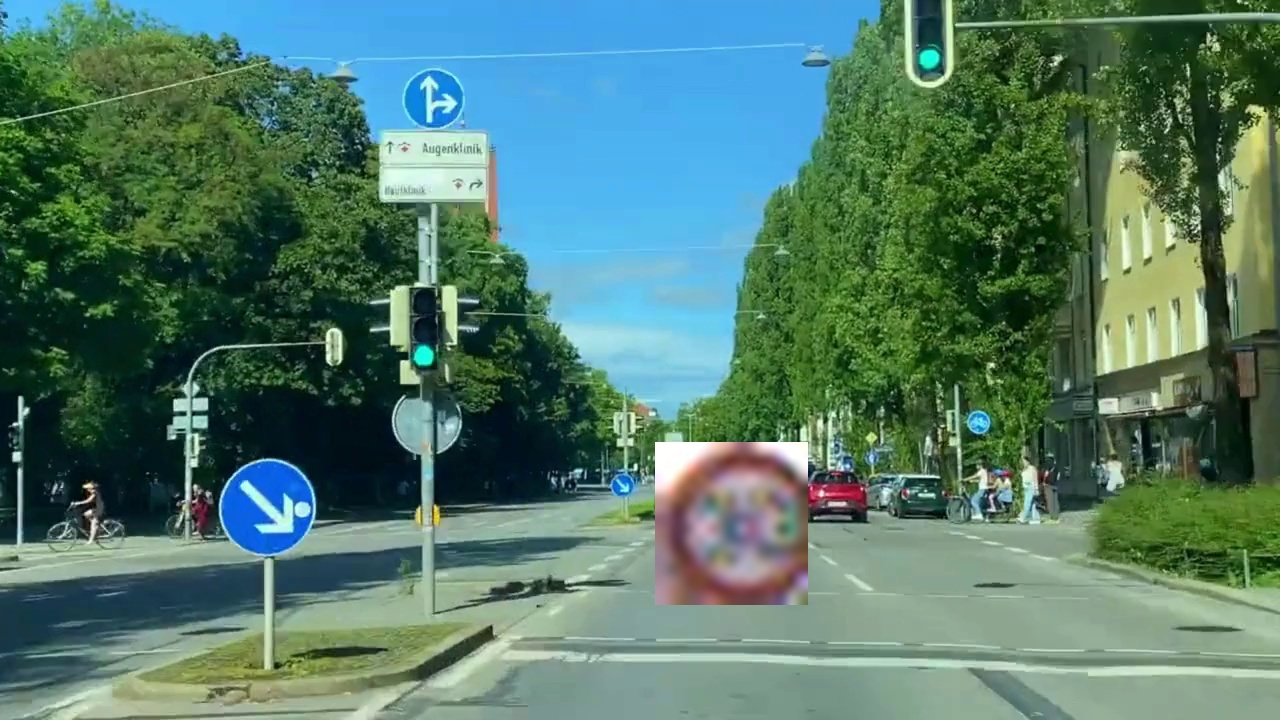Speed 30: (655, 442, 808, 605)
